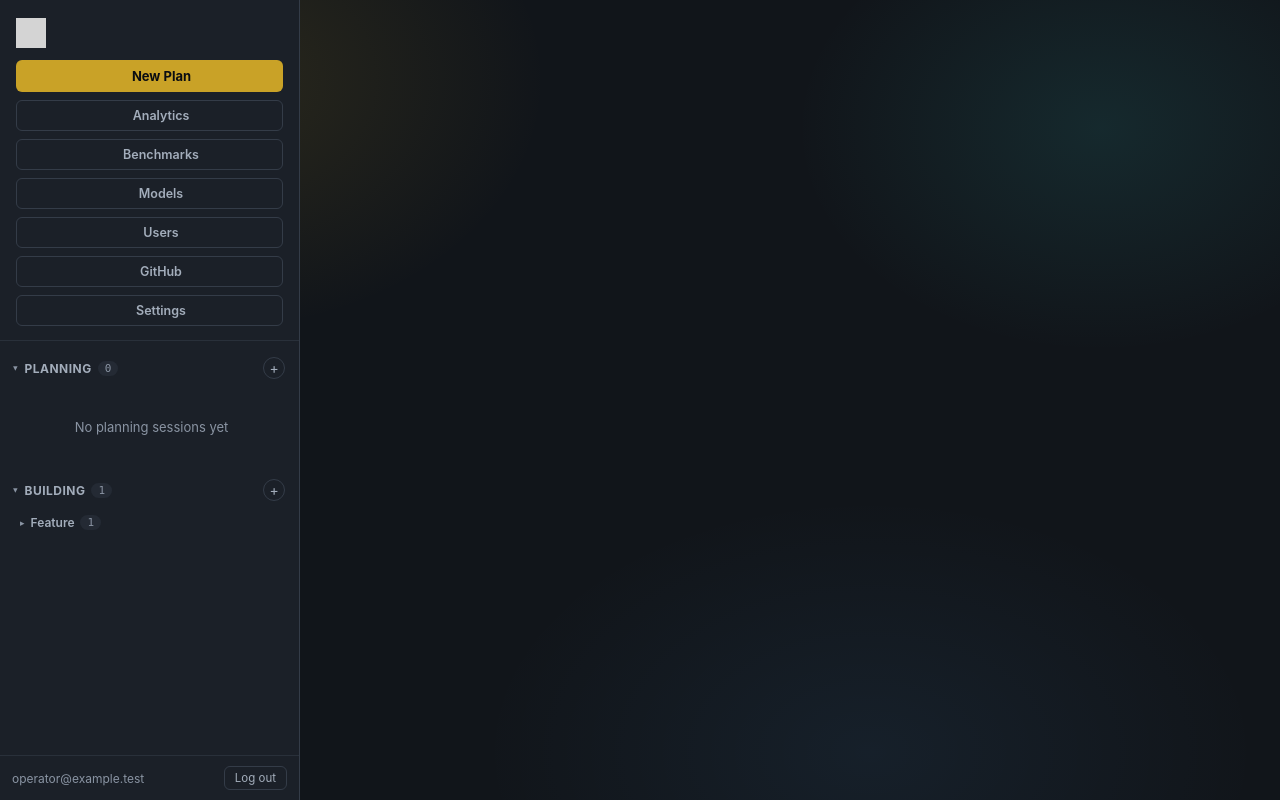
Test: Sidebar — category expansion › still lists a running task inside a category once it finishes
Click the button with class "sidebar-category-head" at (61,522), box [20,515,101,530]
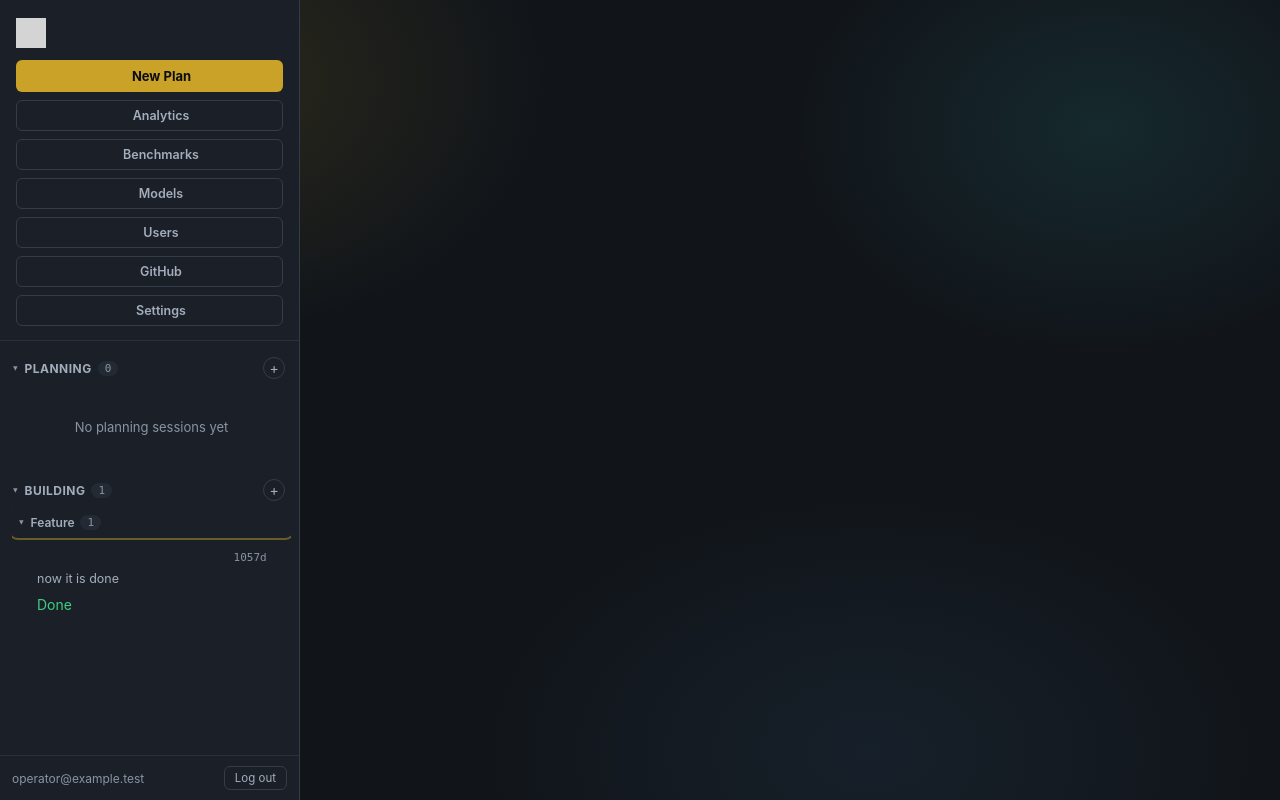
Expected: the text "now it is done" is shown, [37,571,119,586]
